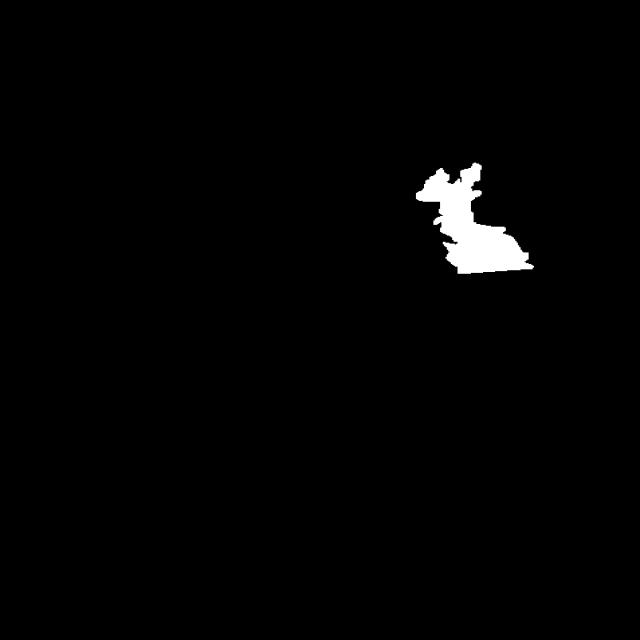fire: (347, 87, 541, 354)
